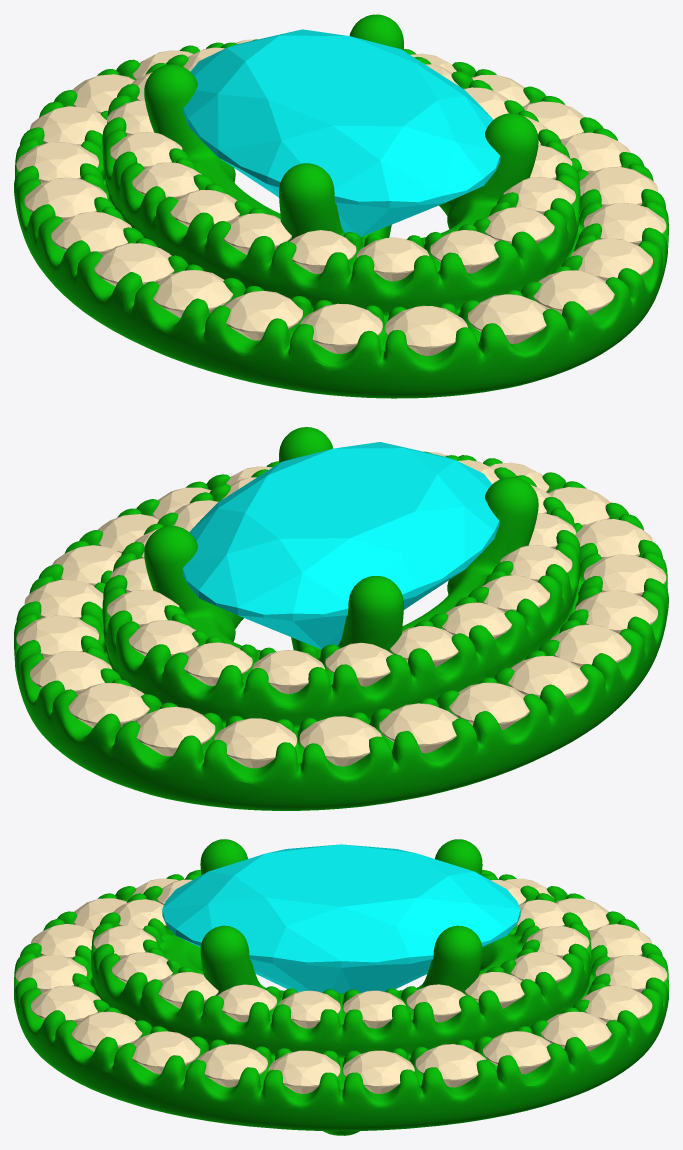
The picture shows the model from 3 angles, top to bottom: view 1: azimuth 30°, elevation 25°; view 2: azimuth 150°, elevation 25°; view 3: azimuth 270°, elevation 25°; orthographic projection. The views are drawn at different scales.
Visible parts, largest first — view 1: Metal01, Diamond_Oval, Diamond_Round.018, Diamond_Round.019, Diamond_Round.039, Diamond_Round.020, Diamond_Round.038, Diamond_Round.021, Diamond_Round.022, Diamond_Round.037, Diamond_Round.023, Diamond_Round.024 (+20 smaller); view 2: Metal01, Diamond_Oval, Diamond_Round.027, Diamond_Round.026, Diamond_Round.028, Diamond_Round.025, Diamond_Round.029, Diamond_Round.024, Diamond_Round.023, Diamond_Round.030, Diamond_Round.022, Diamond_Round.021 (+21 smaller); view 3: Metal01, Diamond_Oval, Diamond_Round.033, Diamond_Round.034, Diamond_Round.032, Diamond_Round.035, Diamond_Round.031, Diamond_Round.036, Diamond_Round.030, Diamond_Round.037, Diamond_Round.029, Diamond_Round.038 (+18 smaller).
Part boxes in pixels (bbox=[...]): Metal01: bbox=[14, 14, 668, 398]; Diamond_Oval: bbox=[183, 29, 500, 236]; Diamond_Round.018: bbox=[385, 305, 467, 355]; Diamond_Round.019: bbox=[300, 303, 382, 353]; Diamond_Round.039: bbox=[468, 294, 546, 343]; Diamond_Round.020: bbox=[224, 291, 302, 340]; Diamond_Round.038: bbox=[533, 270, 614, 315]; Diamond_Round.021: bbox=[153, 270, 233, 318]; Diamond_Round.022: bbox=[94, 243, 174, 286]; Diamond_Round.037: bbox=[571, 238, 652, 281]; Diamond_Round.023: bbox=[51, 211, 131, 254]; Diamond_Round.024: bbox=[24, 177, 107, 221]; Metal01: bbox=[14, 427, 668, 810]; Diamond_Oval: bbox=[182, 442, 499, 649]; Diamond_Round.027: bbox=[214, 718, 296, 768]; Diamond_Round.026: bbox=[299, 716, 381, 766]; Diamond_Round.028: bbox=[136, 706, 215, 756]; Diamond_Round.025: bbox=[379, 703, 458, 753]; Diamond_Round.029: bbox=[68, 683, 149, 727]; Diamond_Round.024: bbox=[449, 682, 529, 730]; Diamond_Round.023: bbox=[508, 655, 588, 698]; Diamond_Round.030: bbox=[30, 650, 112, 693]; Diamond_Round.022: bbox=[551, 624, 631, 667]; Diamond_Round.021: bbox=[575, 590, 657, 633]; Metal01: bbox=[14, 839, 668, 1135]; Diamond_Oval: bbox=[162, 844, 520, 993]; Diamond_Round.033: bbox=[343, 1050, 414, 1093]; Diamond_Round.034: bbox=[268, 1050, 340, 1093]; Diamond_Round.032: bbox=[415, 1044, 485, 1087]; Diamond_Round.035: bbox=[197, 1044, 267, 1087]; Diamond_Round.031: bbox=[483, 1031, 550, 1074]; Diamond_Round.036: bbox=[132, 1031, 200, 1074]; Diamond_Round.030: bbox=[541, 1011, 611, 1051]; Diamond_Round.037: bbox=[71, 1011, 142, 1051]; Diamond_Round.029: bbox=[582, 985, 652, 1022]; Diamond_Round.038: bbox=[31, 985, 100, 1023].
Size of the model in its own units: 11.96 by 6.25 by 14.62.
